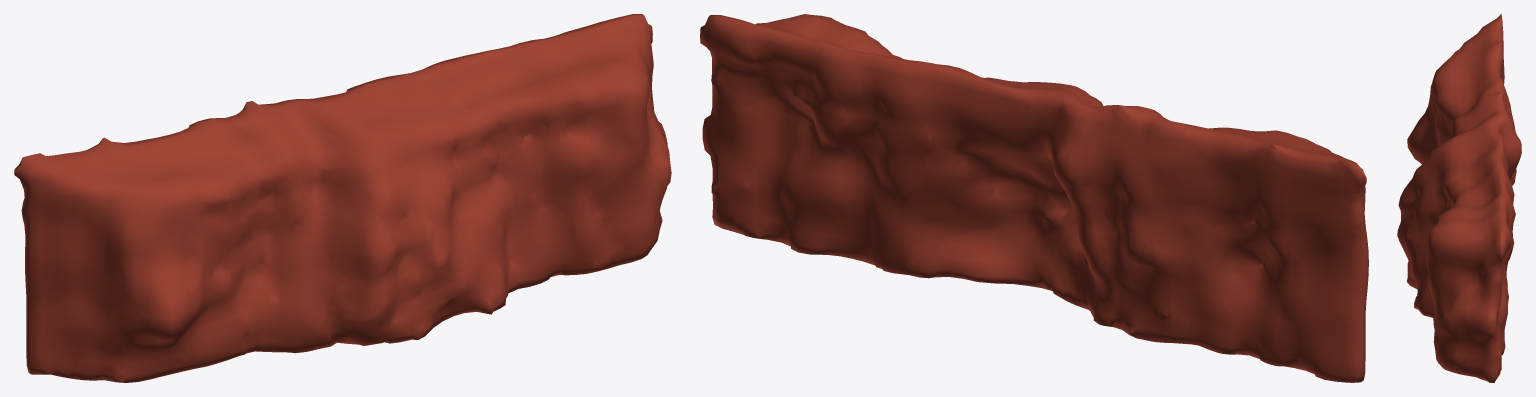
File: Felsen-LP3.fbx
3 views of the same model, side by side, from view 1: azimuth 30°, elevation 25°; view 2: azimuth 150°, elevation 25°; view 3: azimuth 270°, elevation 25° (orthographic). The views are drawn at different scales.
Visible parts, largest first — view 1: LP-Felsen; view 2: LP-Felsen; view 3: LP-Felsen.
Boxes of the visible parts, x1,y1,x2,y2 form: LP-Felsen: (14, 14, 671, 382); LP-Felsen: (700, 14, 1368, 382); LP-Felsen: (1397, 14, 1521, 382).
Size of the model in its own units: 1204 by 400 by 284.
